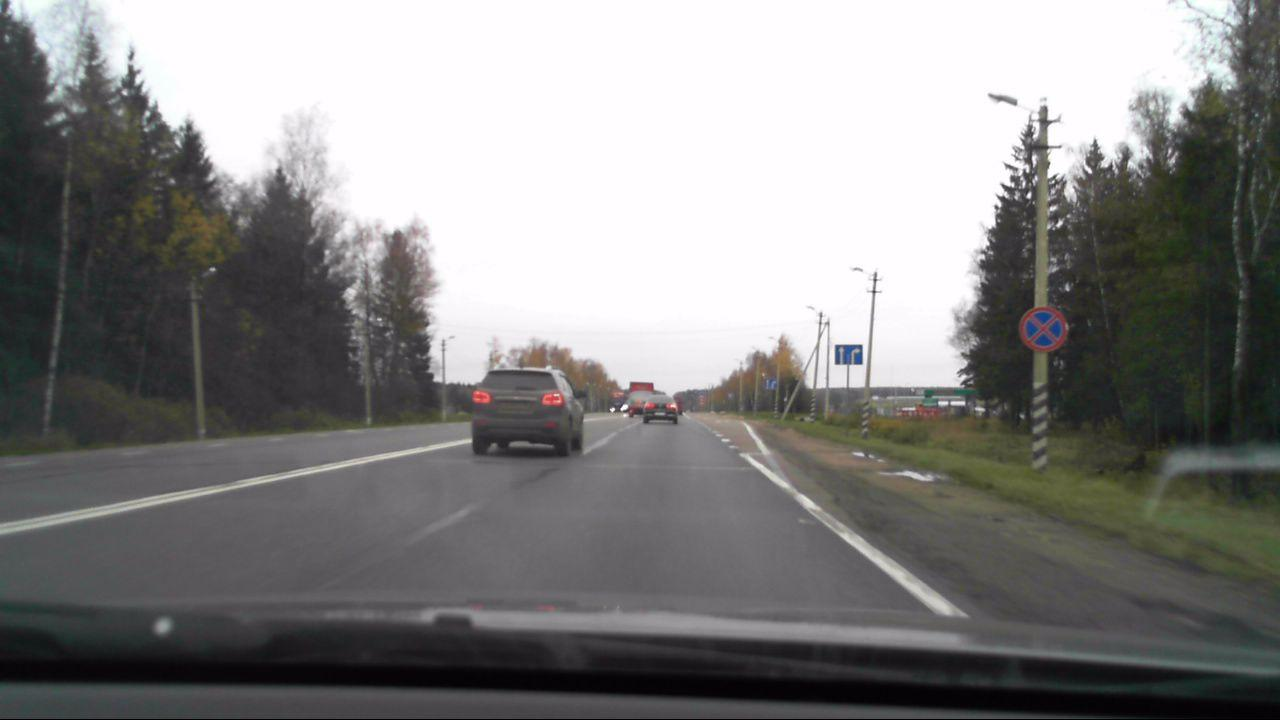3_27: (1016, 305, 1066, 352)
5_15_1: (832, 342, 864, 366), (764, 379, 777, 392)
